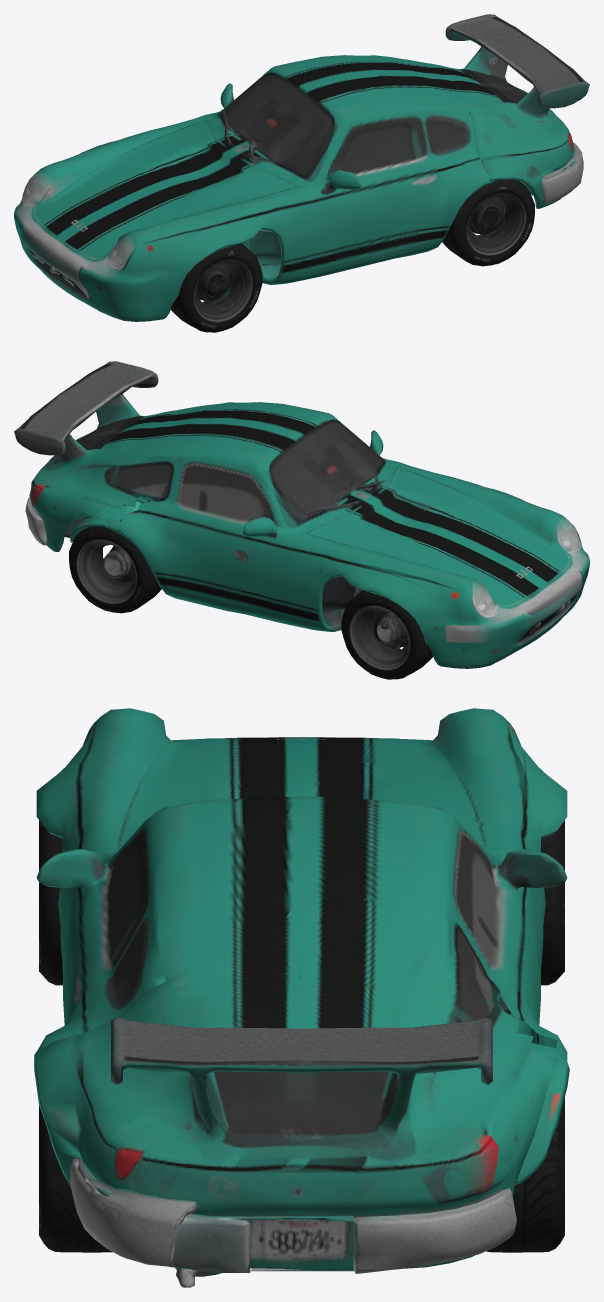
Rendered from Meshy_AI_Hãy_tạo_mô_hình__1023192254_texture.fbx.
3 views of the same model, one above another, from view 1: azimuth 30°, elevation 25°; view 2: azimuth 150°, elevation 25°; view 3: azimuth 270°, elevation 25° (orthographic). The views are drawn at different scales.
Parts seen in each view (by area): view 1: Mesh_0; view 2: Mesh_0; view 3: Mesh_0.
Boxes of the visible parts, box(x1,y1,x2,y2) form: Mesh_0: box(14, 14, 589, 332); Mesh_0: box(14, 361, 589, 679); Mesh_0: box(34, 708, 569, 1287).
Size of the model in its own units: 189 by 58.71 by 87.28.
Materials: 1 (1 with a texture image).
